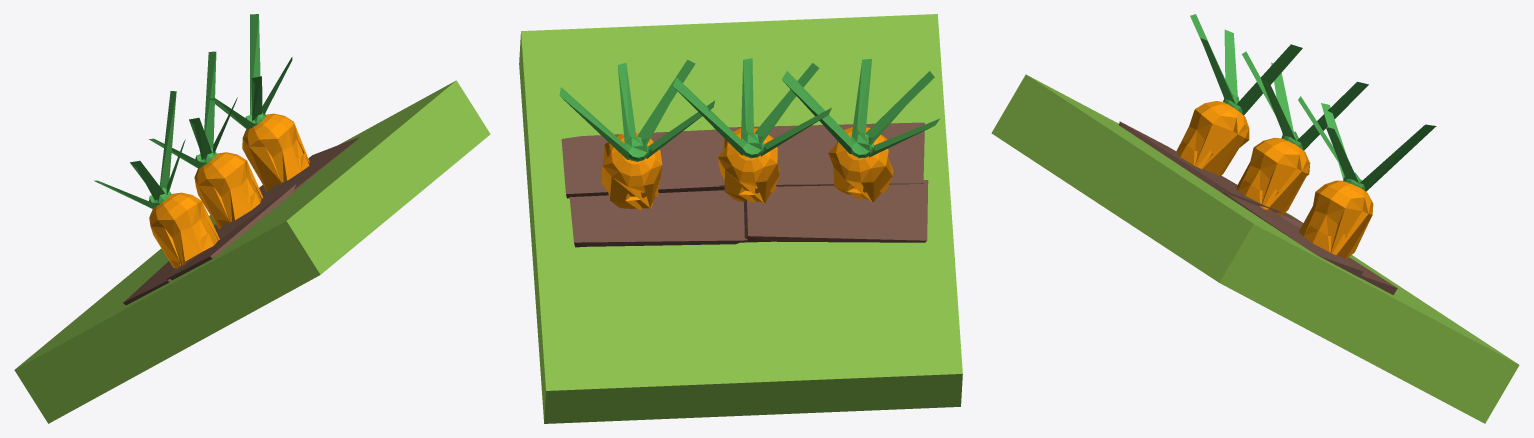
3 renders of one model, left to right at view 1: azimuth 30°, elevation 25°; view 2: azimuth 150°, elevation 25°; view 3: azimuth 270°, elevation 25°, orthographic. The views are drawn at different scales.
Parts seen in each view (by area): view 1: mesh_1537693769, mesh_1676923291, mesh_67917628, mesh_530236690, mesh_685872008, mesh_1786324460, group_1616904883, group_735060134, group_293407083, mesh_775622631, group_1641441169, group_1466827094 (+1 smaller); view 2: mesh_1537693769, mesh_775622631, mesh_868662482, mesh_1786324460, mesh_685872008, mesh_530236690, mesh_67917628, mesh_1676923291, group_735060134, group_1616904883, group_1571238827, group_1936757753 (+11 smaller); view 3: mesh_1537693769, mesh_530236690, mesh_67917628, mesh_1676923291, mesh_1786324460, mesh_685872008, group_735060134, group_293407083, group_1616904883, group_691413670, group_343871979, group_111099023 (+2 smaller).
Part boxes in pixels (x1,y1,x2,y2): mesh_1537693769: [14, 80, 490, 423]; mesh_1676923291: [149, 192, 219, 268]; mesh_67917628: [194, 152, 263, 228]; mesh_530236690: [242, 113, 309, 191]; mesh_685872008: [166, 184, 295, 280]; mesh_1786324460: [262, 137, 359, 201]; group_1616904883: [204, 51, 216, 148]; group_735060134: [159, 91, 176, 188]; group_293407083: [250, 14, 260, 114]; mesh_775622631: [123, 226, 219, 305]; group_1641441169: [130, 160, 164, 200]; group_1466827094: [189, 117, 212, 159]; mesh_1537693769: [519, 14, 962, 423]; mesh_775622631: [741, 180, 928, 242]; mesh_868662482: [569, 190, 747, 247]; mesh_1786324460: [561, 129, 724, 198]; mesh_685872008: [716, 122, 924, 186]; mesh_530236690: [601, 132, 662, 210]; mesh_67917628: [717, 128, 779, 203]; mesh_1676923291: [828, 127, 893, 202]; group_735060134: [781, 71, 851, 153]; group_1616904883: [673, 77, 743, 155]; group_1571238827: [637, 59, 695, 145]; group_1936757753: [851, 59, 871, 137]; mesh_1537693769: [991, 74, 1519, 423]; mesh_530236690: [1299, 180, 1373, 259]; mesh_67917628: [1236, 138, 1310, 216]; mesh_1676923291: [1176, 101, 1249, 176]; mesh_1786324460: [1206, 180, 1363, 277]; mesh_685872008: [1119, 121, 1281, 212]; group_735060134: [1236, 44, 1302, 114]; group_293407083: [1360, 124, 1436, 191]; group_1616904883: [1297, 81, 1368, 150]; group_691413670: [1224, 29, 1237, 97]; group_343871979: [1261, 79, 1295, 140]; group_111099023: [1325, 127, 1359, 183].
Bounding box in the file's own units: 63.76 × 40.08 × 61.78.
